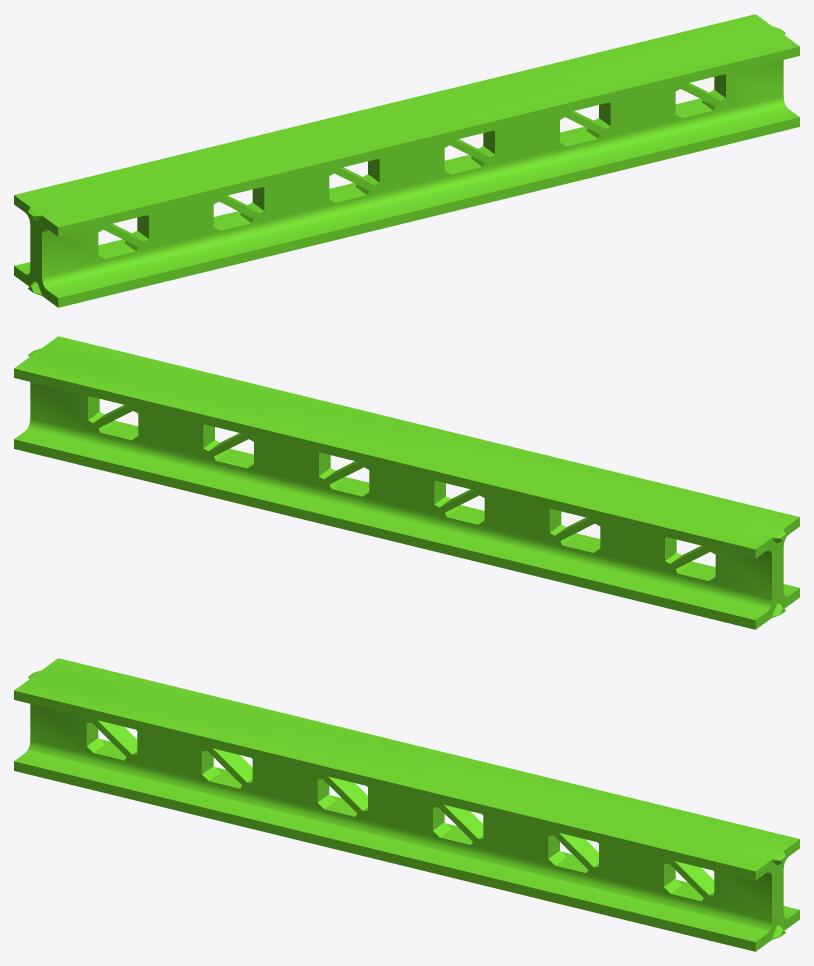
File: Steel Beam.fbx
3 renders of one model, top to bottom at view 1: azimuth 30°, elevation 25°; view 2: azimuth 150°, elevation 25°; view 3: azimuth 330°, elevation 25°, orthographic.
Visible parts, largest first — view 1: Steel_Beam; view 2: Steel_Beam; view 3: Steel_Beam.
Boxes of the visible parts, bbox=[...] form: Steel_Beam: bbox=[14, 14, 799, 307]; Steel_Beam: bbox=[14, 336, 799, 629]; Steel_Beam: bbox=[14, 658, 799, 951].
Size of the model in its own units: 652 by 66.5 by 66.5.
